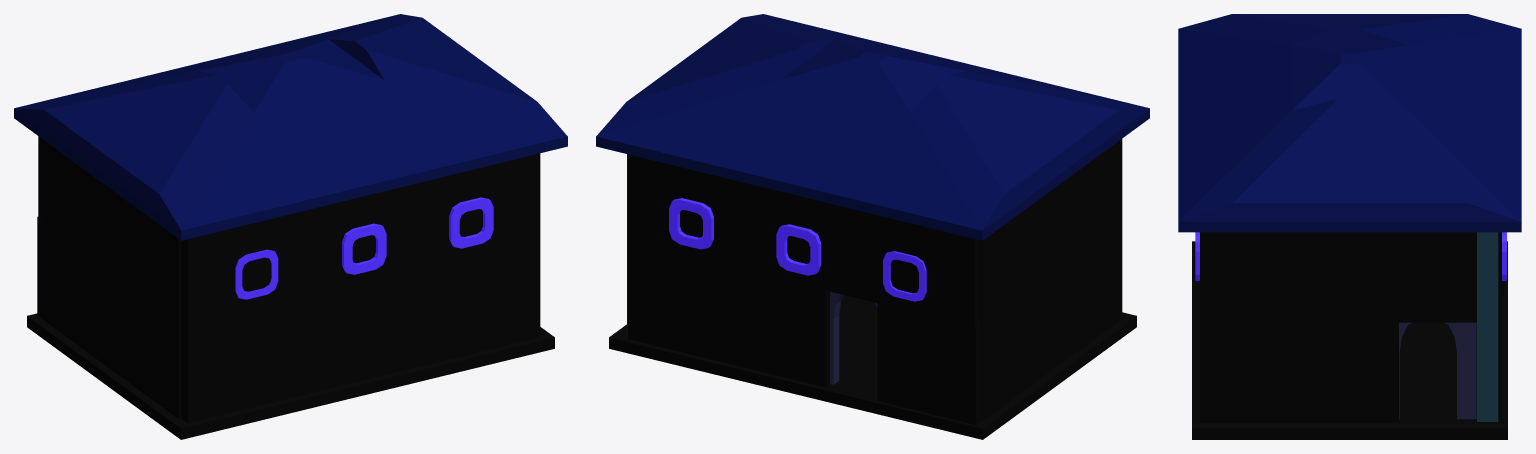
File: rough buildings with Coli detect.fbx
The picture shows the model from 3 angles, left to right: view 1: azimuth 30°, elevation 25°; view 2: azimuth 150°, elevation 25°; view 3: azimuth 270°, elevation 25°; orthographic projection. The views are drawn at different scales.
Visible parts, largest first — view 1: Cube.010, Cube.005, Cube.006; view 2: Cube.010, Cube.005, Cube.006, Cube.001; view 3: Cube.005, Cube.010, Cube.007, Cube.001, Cube.006.
Part boxes in pixels (x1,y1,x2,y2): Cube.010: [27, 136, 554, 439]; Cube.005: [14, 14, 567, 240]; Cube.006: [235, 197, 493, 299]; Cube.010: [609, 139, 1136, 439]; Cube.005: [596, 14, 1149, 240]; Cube.006: [669, 198, 926, 301]; Cube.001: [830, 291, 877, 384]; Cube.005: [1178, 14, 1521, 232]; Cube.010: [1192, 232, 1507, 439]; Cube.007: [1477, 232, 1498, 421]; Cube.001: [1399, 322, 1476, 419]; Cube.006: [1195, 232, 1506, 280].
Bounding box in the file's own units: 800 × 556 × 600.
